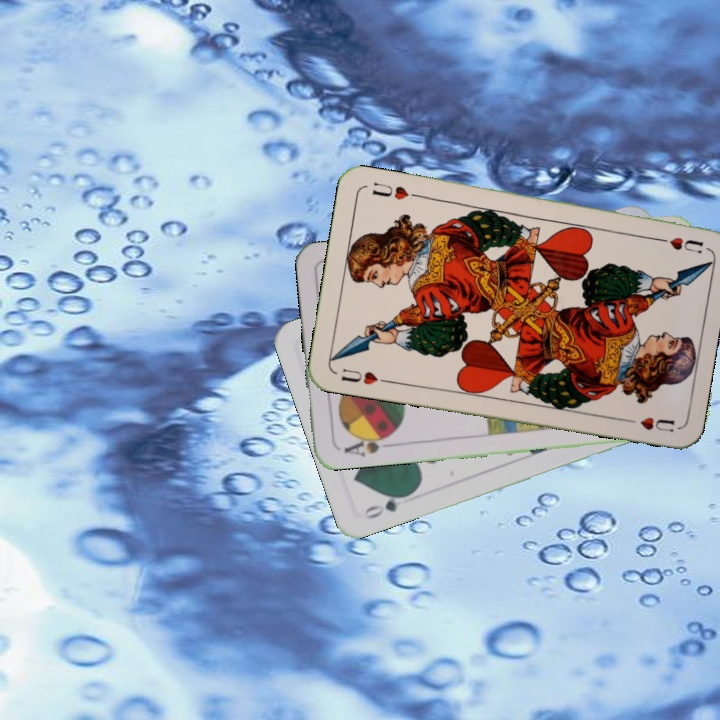GO: (359, 489, 414, 522)
HU: (648, 233, 706, 256), (337, 364, 391, 388)
SA: (340, 429, 396, 459)
